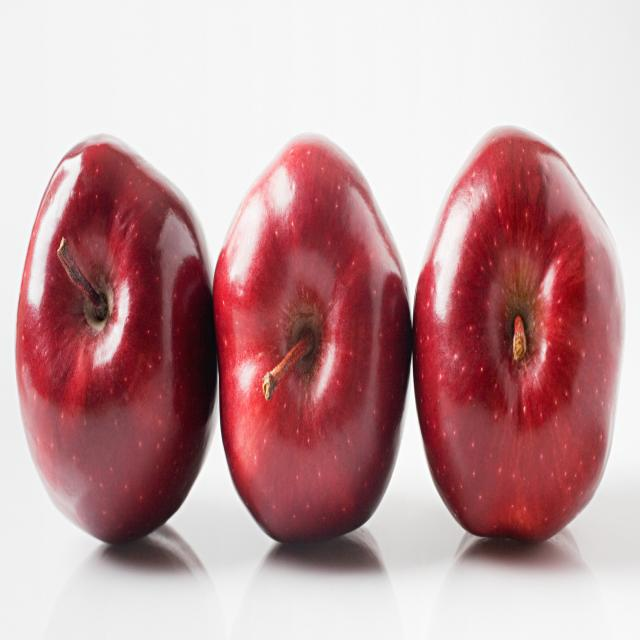apple: (413, 122, 622, 554), (13, 131, 216, 543), (215, 133, 414, 544)
